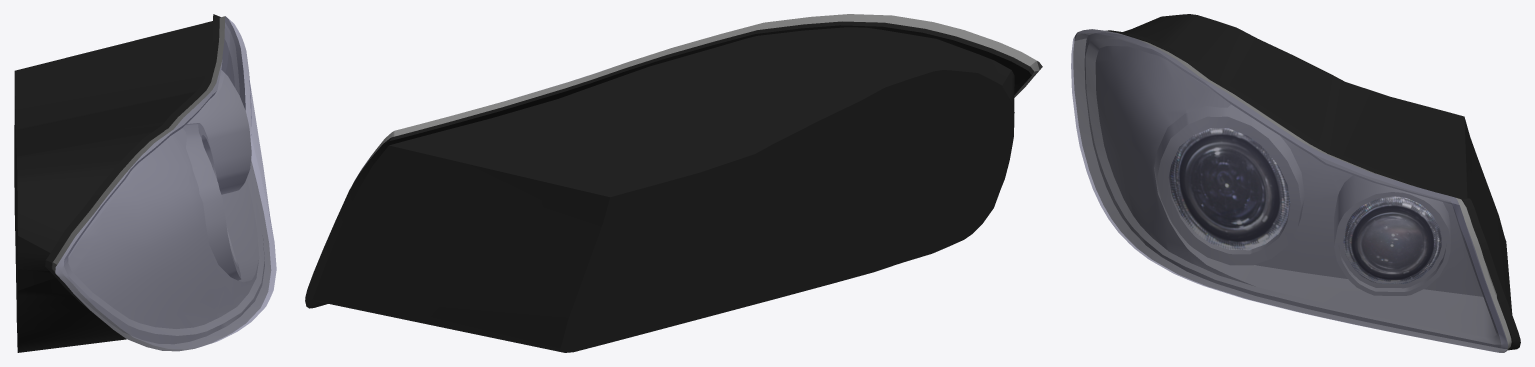
3 renders of one model, left to right at view 1: azimuth 30°, elevation 25°; view 2: azimuth 150°, elevation 25°; view 3: azimuth 270°, elevation 25°, orthographic. The views are drawn at different scales.
Parts seen in each view (by area): view 1: X4131_061B_R_X4131_061B_R_3_DTaSI, X4131_061B_R_1_N_X4131_061B_R, X4131_061B_R_X4131_061B_R_2_D; view 2: X4131_061B_R_X4131_061B_R_2_D, X4131_061B_R_1_N_X4131_061B_R; view 3: X4131_061B_R_X4131_061B_R_3_DTaSI, X4131_061B_R_1_N_X4131_061B_R, X4131_061B_R_X4131_061B_R_2_D, X4131_061B_R_X4131_061B_R_4_N, X4131_061B_R_X4131_061B_R_5_N.
Boxes of the visible parts, x1=… form: X4131_061B_R_X4131_061B_R_3_DTaSI: x1=55, y1=16, x2=276, y2=350; X4131_061B_R_1_N_X4131_061B_R: x1=52, y1=16, x2=271, y2=351; X4131_061B_R_X4131_061B_R_2_D: x1=14, y1=14, x2=220, y2=352; X4131_061B_R_X4131_061B_R_2_D: x1=305, y1=21, x2=1034, y2=352; X4131_061B_R_1_N_X4131_061B_R: x1=352, y1=14, x2=1042, y2=184; X4131_061B_R_X4131_061B_R_3_DTaSI: x1=1071, y1=29, x2=1507, y2=352; X4131_061B_R_1_N_X4131_061B_R: x1=1073, y1=29, x2=1511, y2=352; X4131_061B_R_X4131_061B_R_2_D: x1=1106, y1=14, x2=1520, y2=350; X4131_061B_R_X4131_061B_R_4_N: x1=1168, y1=128, x2=1290, y2=250; X4131_061B_R_X4131_061B_R_5_N: x1=1343, y1=196, x2=1441, y2=283.
Bounding box in the file's own units: 45.6 × 19.63 × 45.47.
